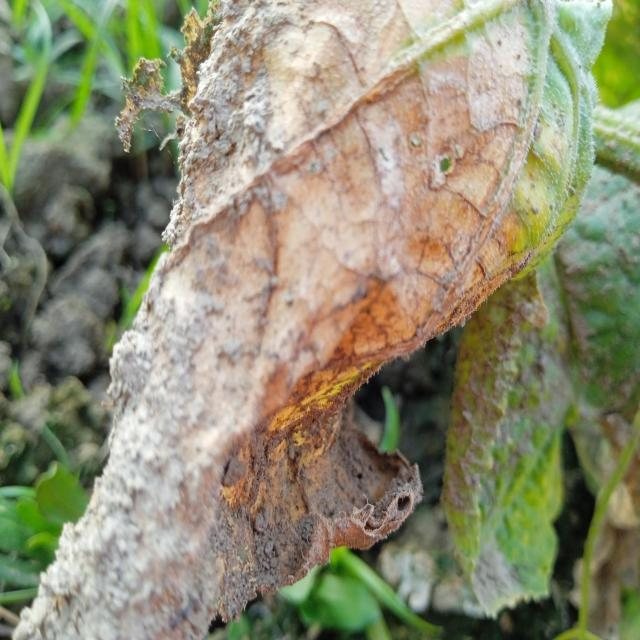cucumber_gummy: (14, 0, 608, 640), (429, 243, 590, 627)
